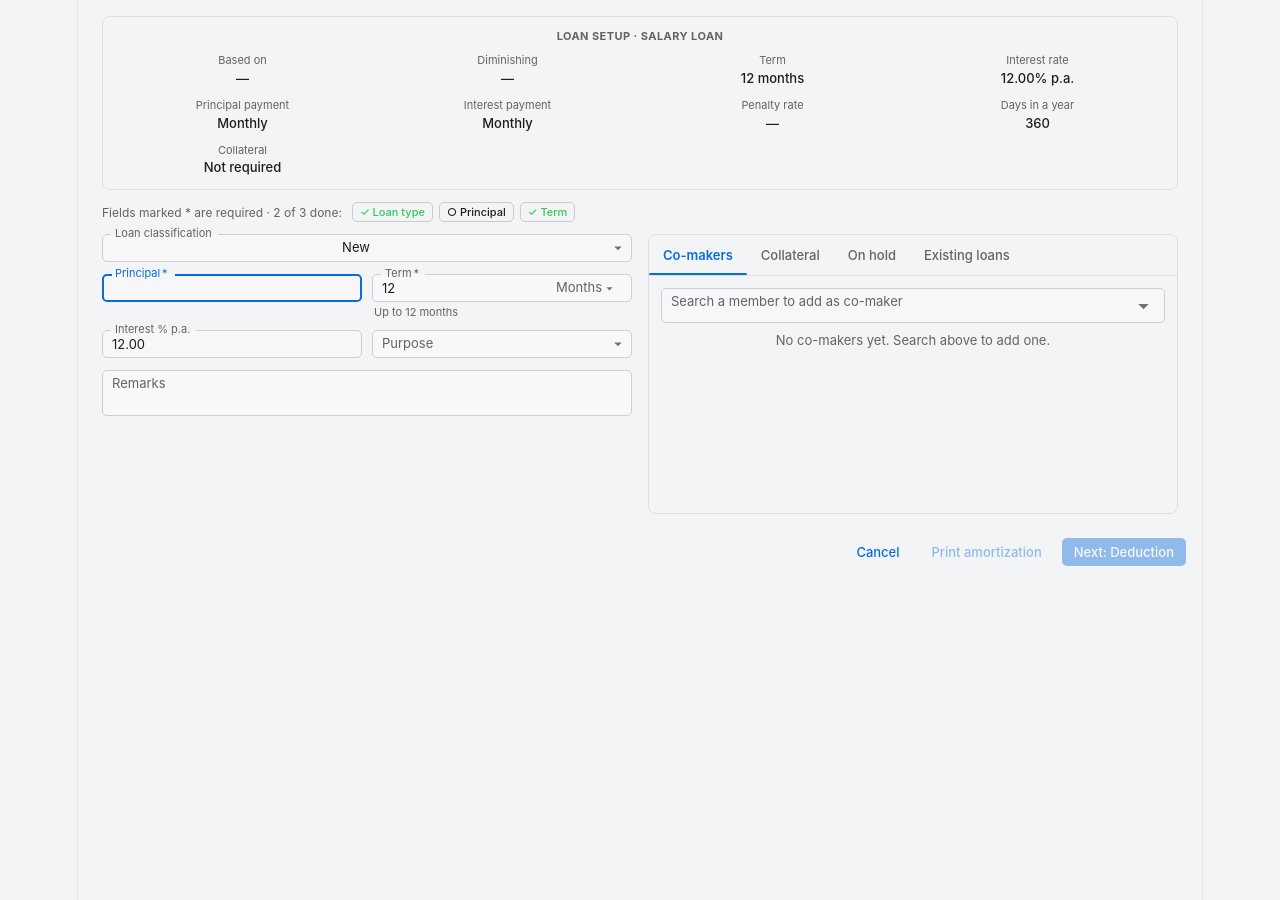
it: Profiling guidance › starts the term at the loan type’s and says at once when it goes over
Expected: the number field labelled "Term *" holds "12", [372,274,548,302]
Expected: the text "Up to 12 months" is shown, [374,305,458,319]
Type "5000" into the field labelled "Principal *". click: (232, 288)
box: [102,274,362,302]
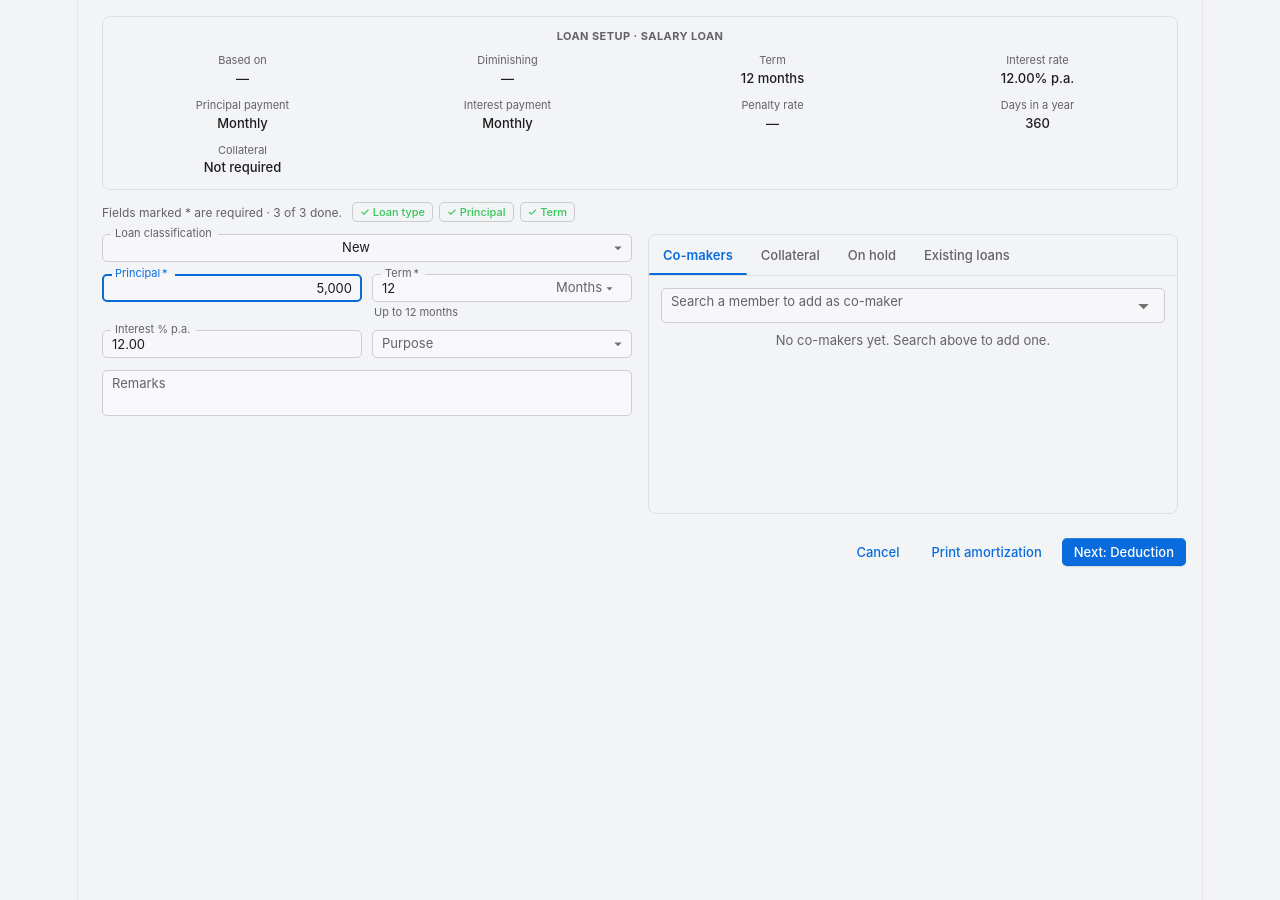
Replace the text in the number field labelled "Term *" with "13". click: (460, 288)
box: [372,274,548,302]
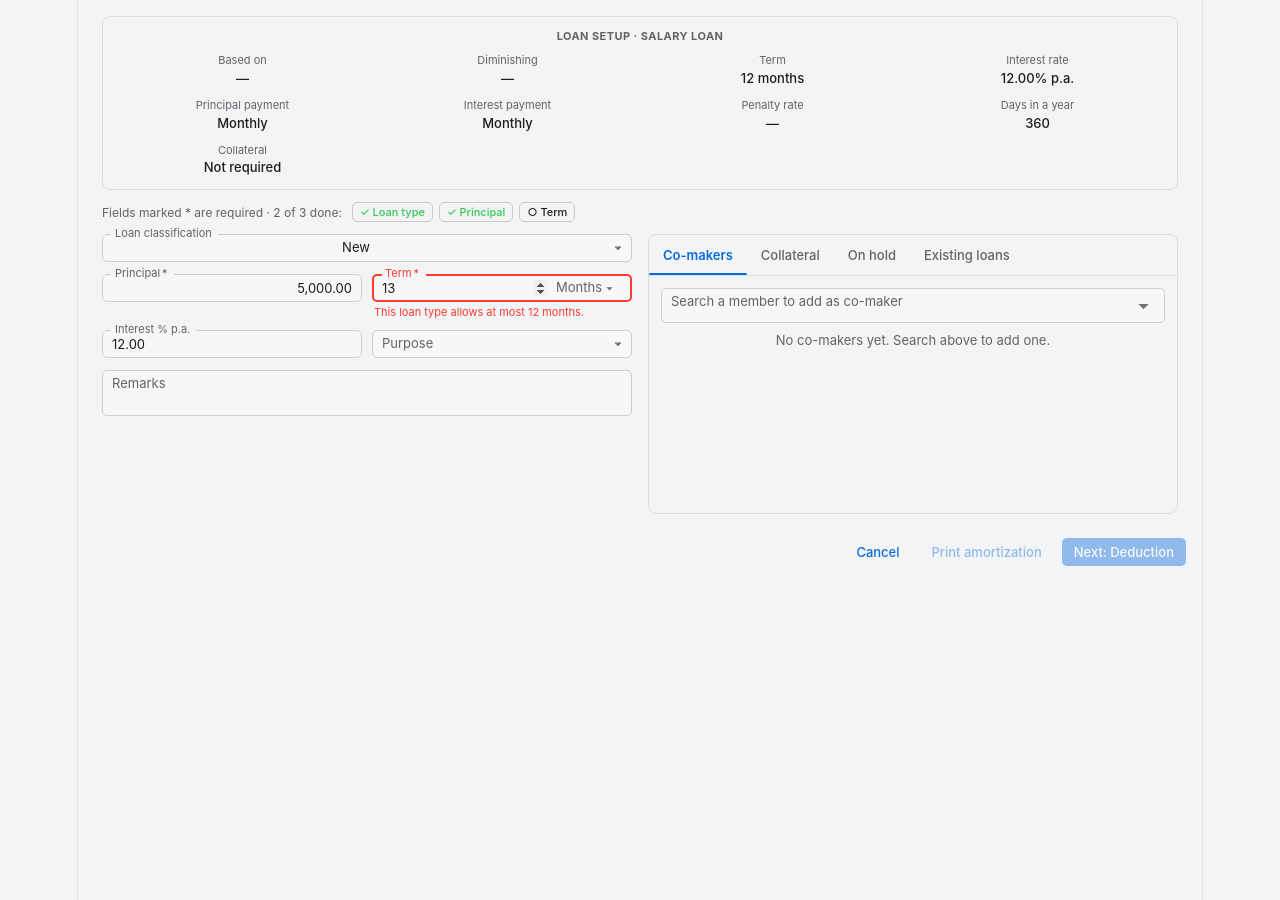
Result: the button "Next: Deduction" is disabled at [1062,538,1186,566]
Result: the text "This loan type allows at most 12 months." is shown at [374,305,584,319]
Replace the text in the number field labelled "Term *" with "12". click: (460, 288)
box: [372,274,548,302]
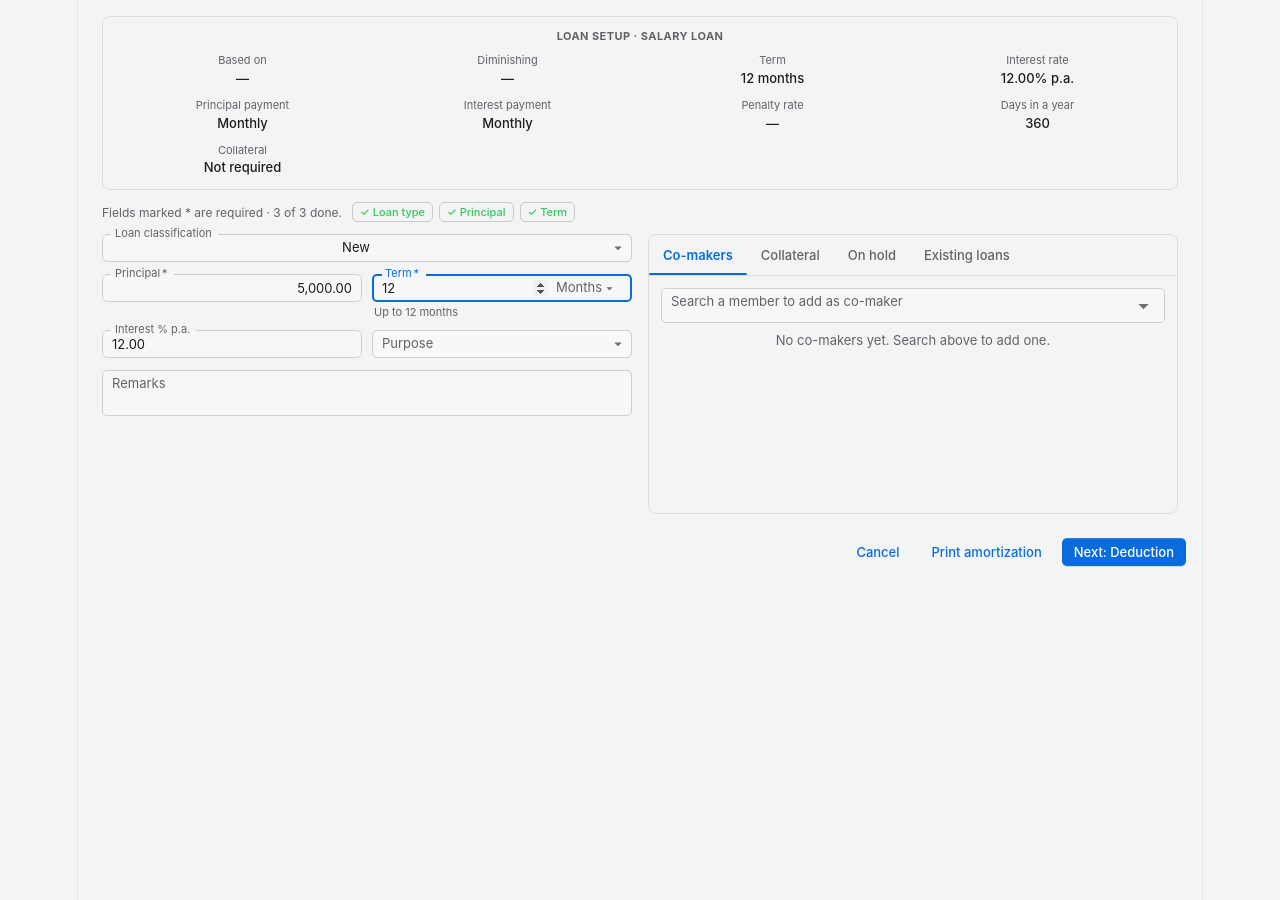
Result: the button "Next: Deduction" is enabled at [1062,538,1186,566]
